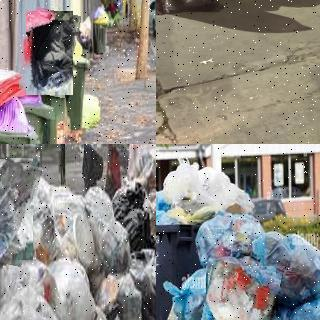Garbage: (162, 159, 252, 215), (190, 208, 265, 275), (256, 228, 320, 304), (22, 9, 77, 97), (82, 183, 134, 276), (202, 263, 279, 320), (0, 154, 37, 263), (48, 256, 100, 320), (159, 269, 215, 320), (0, 286, 65, 320), (283, 289, 320, 320)
